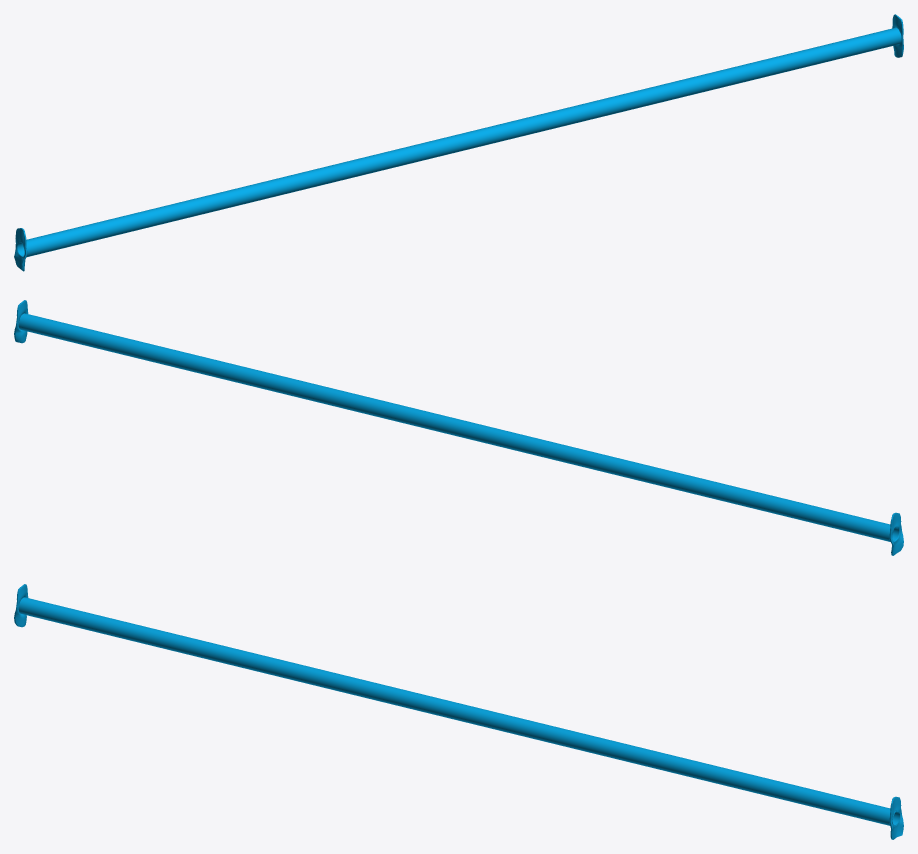
The model's file is 2.5 Ledger.fbx.
3 renders of one model, top to bottom at view 1: azimuth 30°, elevation 25°; view 2: azimuth 150°, elevation 25°; view 3: azimuth 330°, elevation 25°, orthographic.
Parts seen in each view (by area): view 1: Horizontal_ledgers_and_transoms:polySurface20; view 2: Horizontal_ledgers_and_transoms:polySurface20; view 3: Horizontal_ledgers_and_transoms:polySurface20.
Boxes of the visible parts, left/top/right/bottom form: Horizontal_ledgers_and_transoms:polySurface20: left=14, top=14, right=903, bottom=271; Horizontal_ledgers_and_transoms:polySurface20: left=14, top=300, right=903, bottom=555; Horizontal_ledgers_and_transoms:polySurface20: left=14, top=584, right=903, bottom=839.
Bounding box in the file's own units: 2.52 × 0.1127 × 0.0546.
